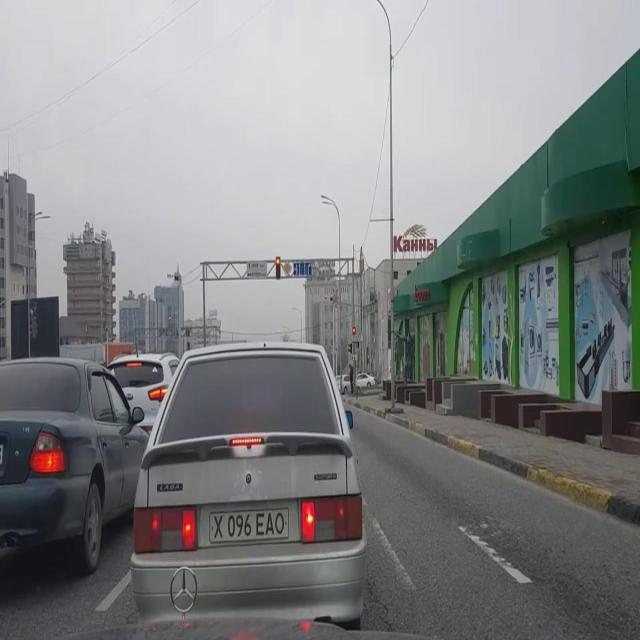car: (130, 340, 368, 628), (0, 356, 150, 574), (106, 350, 180, 436), (356, 372, 376, 388)
license: (208, 506, 290, 544)
